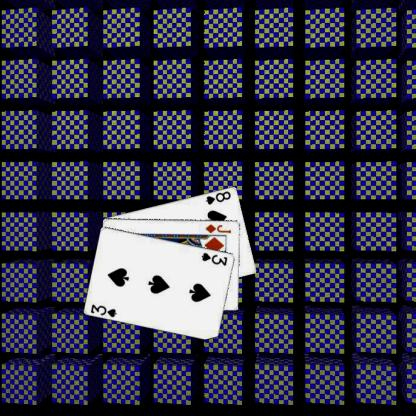3S: (199, 250, 229, 267), (88, 302, 118, 318)
8S: (203, 188, 232, 206)
JD: (203, 221, 232, 234)
